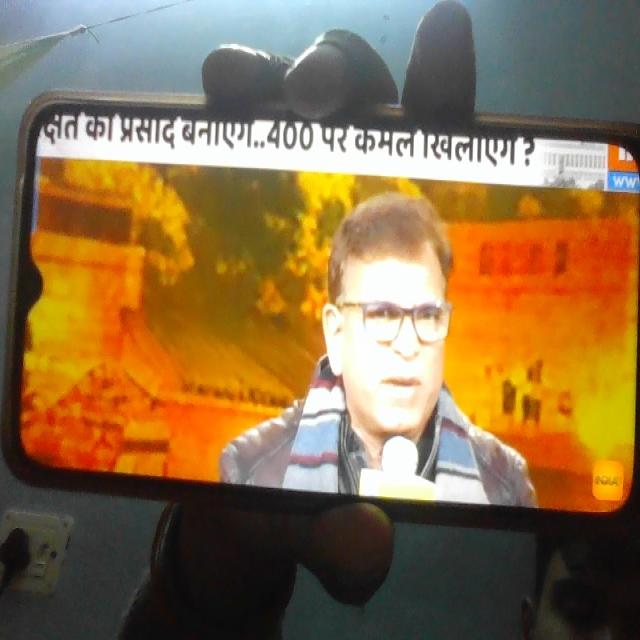fake: (322, 186, 466, 458)
